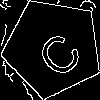C: (28, 22, 86, 81)
